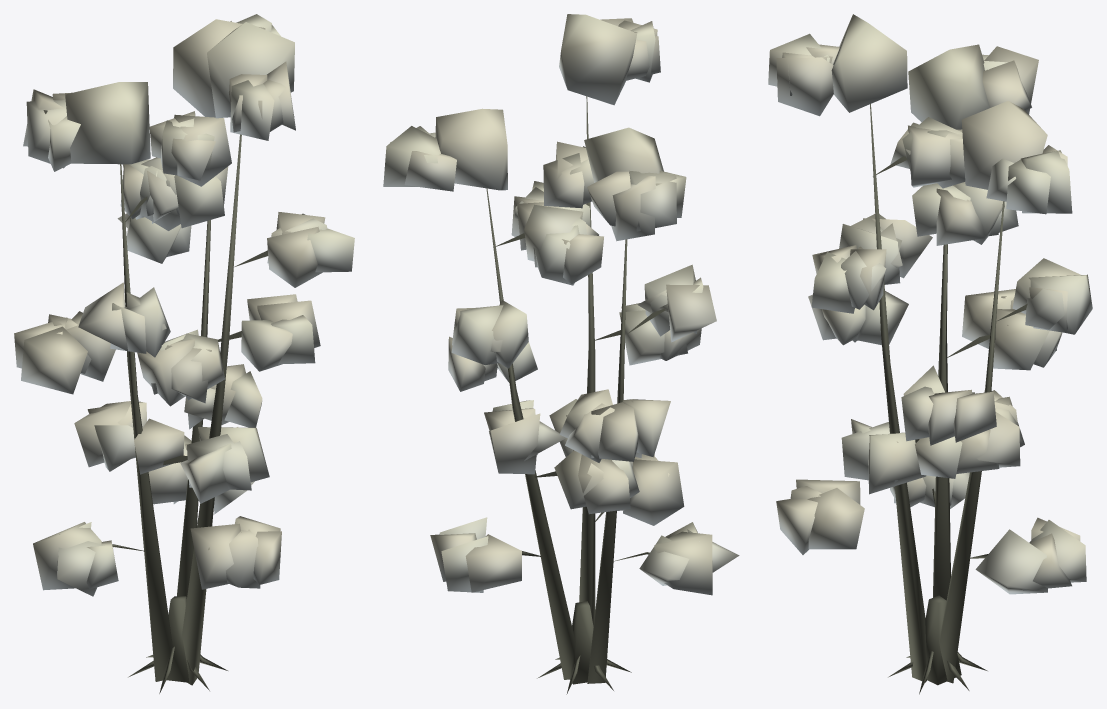
3 renders of one model, left to right at view 1: azimuth 30°, elevation 25°; view 2: azimuth 150°, elevation 25°; view 3: azimuth 270°, elevation 25°, orthographic. The views are drawn at different scales.
Visible parts, largest first — view 1: crown, trunk; view 2: crown, trunk; view 3: crown, trunk.
Boxes of the visible parts, box(x1,y1,x2,y2) form: crown: box(14, 14, 354, 596); trunk: box(112, 134, 268, 693); crown: box(383, 14, 739, 595); trunk: box(486, 96, 665, 694); crown: box(768, 14, 1092, 594); trunk: box(870, 104, 1027, 694).
Bounding box in the file's own units: 6.15 × 13.26 × 5.82.
